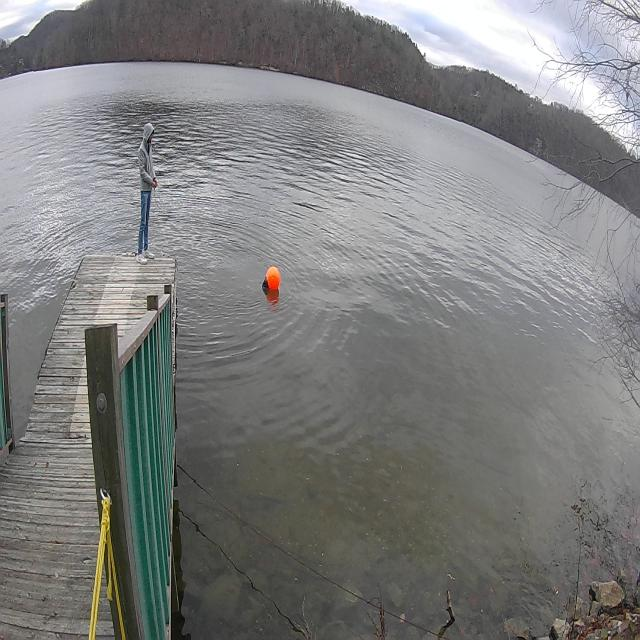Buoy: (263, 266, 281, 298)
